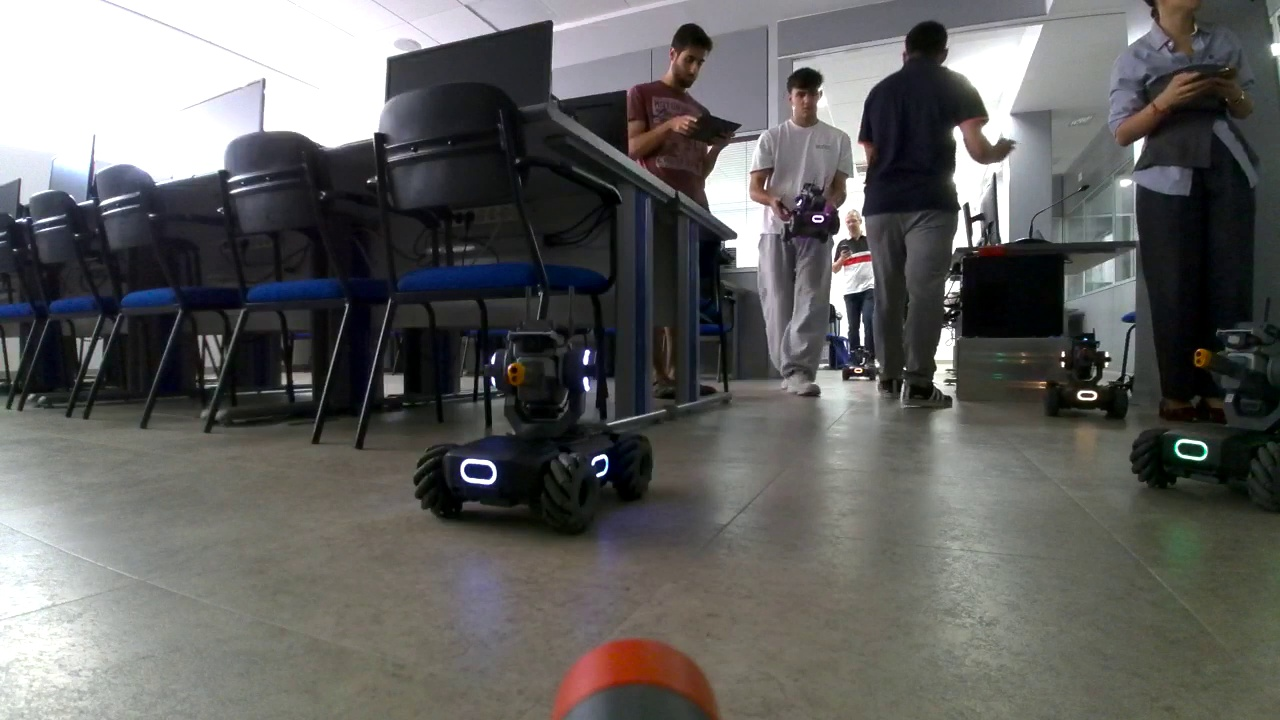robot: (414, 284, 655, 538), (1129, 297, 1280, 512), (1043, 325, 1129, 419), (779, 175, 840, 245), (841, 343, 878, 381)
